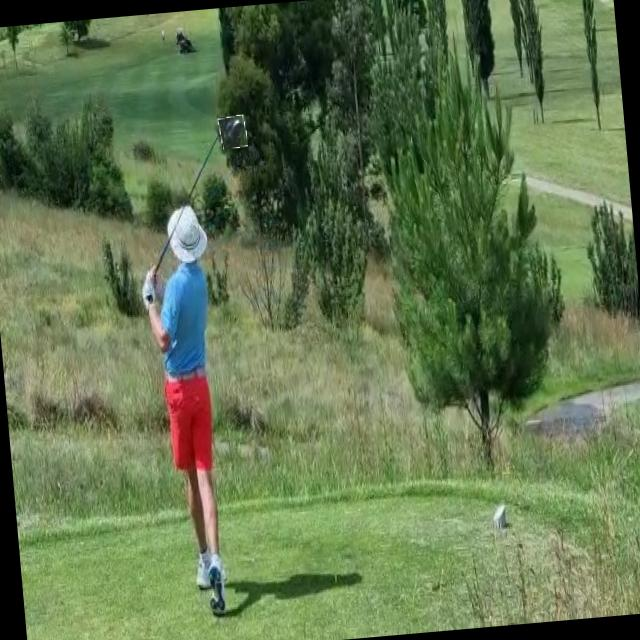club head: (218, 114, 248, 149)
